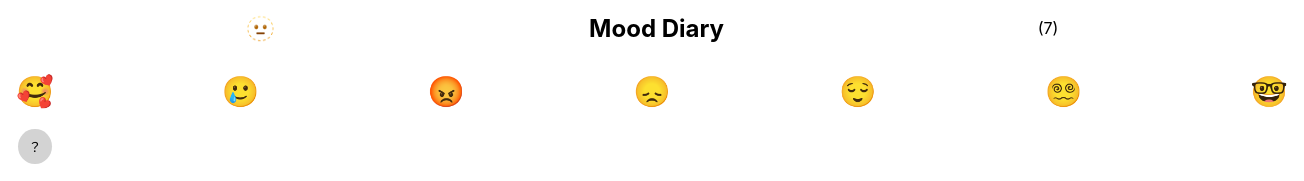
if mouse over happy MoodRow, show up mood value text
Hover over the text with test id "happy".
mouse_move(35, 91)  # box [16, 73, 54, 109]
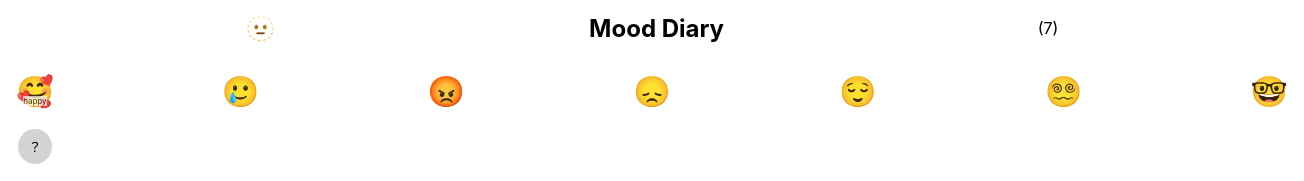
expect the text with test id "moodValue" reads "happy": met, box [23, 96, 47, 106]
